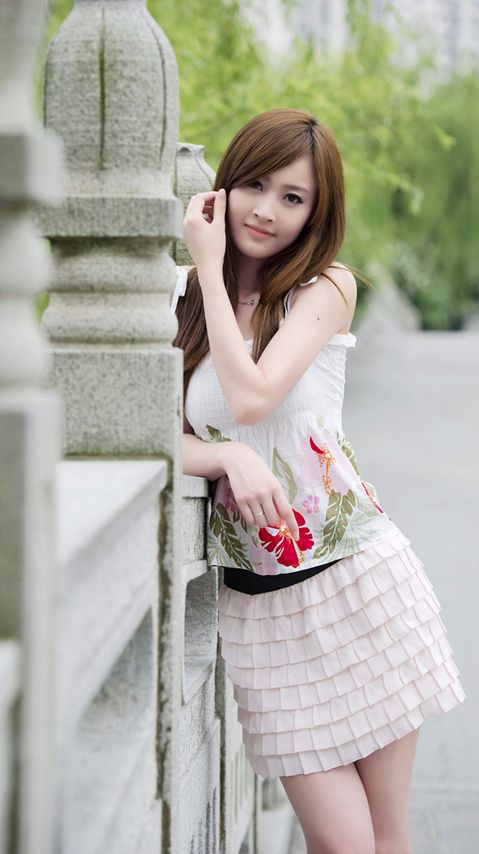person: (154, 86, 457, 785)
